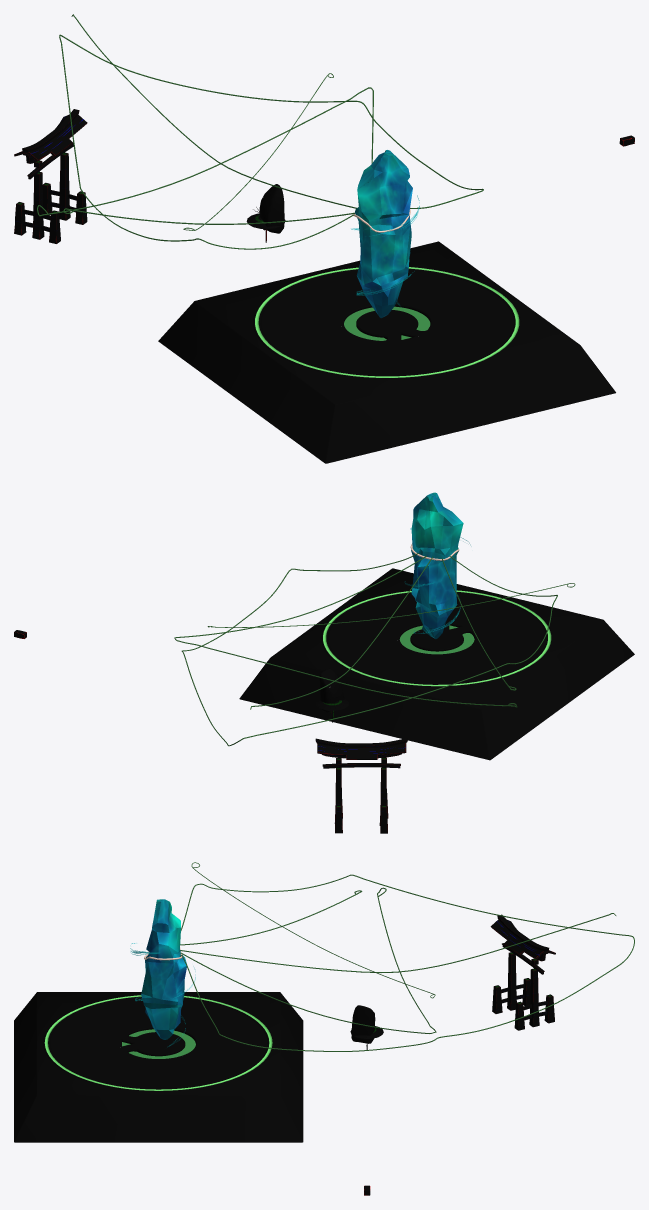
Rendered from scene_gpu.glb.
3 renders of one model, top to bottom at view 1: azimuth 30°, elevation 25°; view 2: azimuth 150°, elevation 25°; view 3: azimuth 270°, elevation 25°, orthographic. The views are drawn at different scales.
Parts seen in each view (by area): view 1: stage, stagePattern, crystal, ToriMainGate1, stageLogo, rope1, RocksSmooth4, float_ToriMainGate1.001, float_ToriMainGate1, rope2; view 2: stage, stagePattern, crystal, stageLogo, rope1, float_ToriMainGate1, rope2, ToriMainGate1, float_ToriMainGate1.001, RocksSmooth4, rope5; view 3: stage, stagePattern, crystal, ToriMainGate1, stageLogo, rope1, RocksSmooth4, rope3, rope2, float_ToriMainGate1.001, float_ToriMainGate1.
Boxes of the visible parts, bbox=[...] form: stage: bbox=[158, 241, 615, 463]; stagePattern: bbox=[261, 270, 512, 375]; crystal: bbox=[355, 150, 412, 318]; ToriMainGate1: bbox=[14, 152, 87, 243]; stageLogo: bbox=[341, 303, 433, 341]; rope1: bbox=[59, 34, 483, 249]; RocksSmooth4: bbox=[259, 184, 284, 233]; float_ToriMainGate1.001: bbox=[14, 114, 87, 161]; float_ToriMainGate1: bbox=[22, 109, 79, 179]; rope2: bbox=[37, 87, 373, 216]; stage: bbox=[239, 568, 634, 760]; stagePattern: bbox=[328, 593, 545, 683]; crystal: bbox=[411, 492, 463, 639]; stageLogo: bbox=[397, 621, 476, 654]; rope1: bbox=[181, 553, 557, 746]; float_ToriMainGate1: bbox=[315, 738, 407, 768]; rope2: bbox=[174, 556, 517, 707]; ToriMainGate1: bbox=[334, 767, 388, 833]; float_ToriMainGate1.001: bbox=[317, 743, 406, 759]; RocksSmooth4: bbox=[319, 668, 344, 711]; rope5: bbox=[207, 583, 575, 627]; stage: bbox=[14, 992, 303, 1142]; stagePattern: bbox=[50, 998, 266, 1088]; crystal: bbox=[141, 899, 186, 1039]; ToriMainGate1: bbox=[492, 952, 554, 1030]; stageLogo: bbox=[119, 1026, 198, 1059]; rope1: bbox=[180, 874, 634, 1051]; RocksSmooth4: bbox=[351, 1005, 375, 1043]; rope3: bbox=[180, 913, 616, 972]; rope2: bbox=[180, 887, 436, 1033]; float_ToriMainGate1.001: bbox=[490, 919, 555, 959]; float_ToriMainGate1: bbox=[497, 914, 549, 974].
Bounding box in the file's own units: 165 × 56.89 × 176.
Materials: 15 (3 with a texture image).
